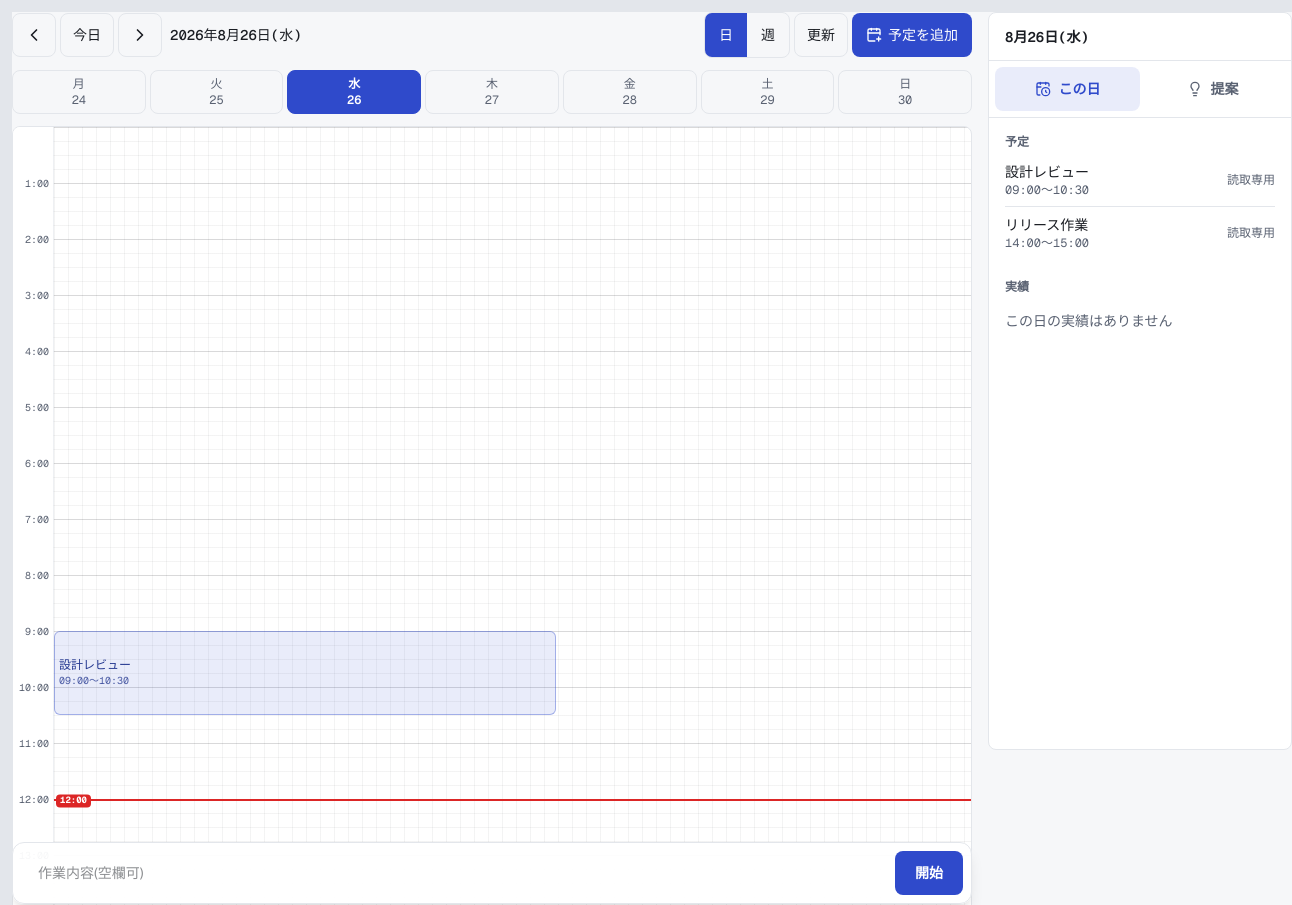
Scenario: 開始失敗時のロールバック(S6) › S6: 開始アクションが失敗すると日本語エラーが表示され、UIが元に戻る
Step 1. Click the button with aria-label "設計レビューのタイマーを開始" → (95, 665), box [54,631,556,715]
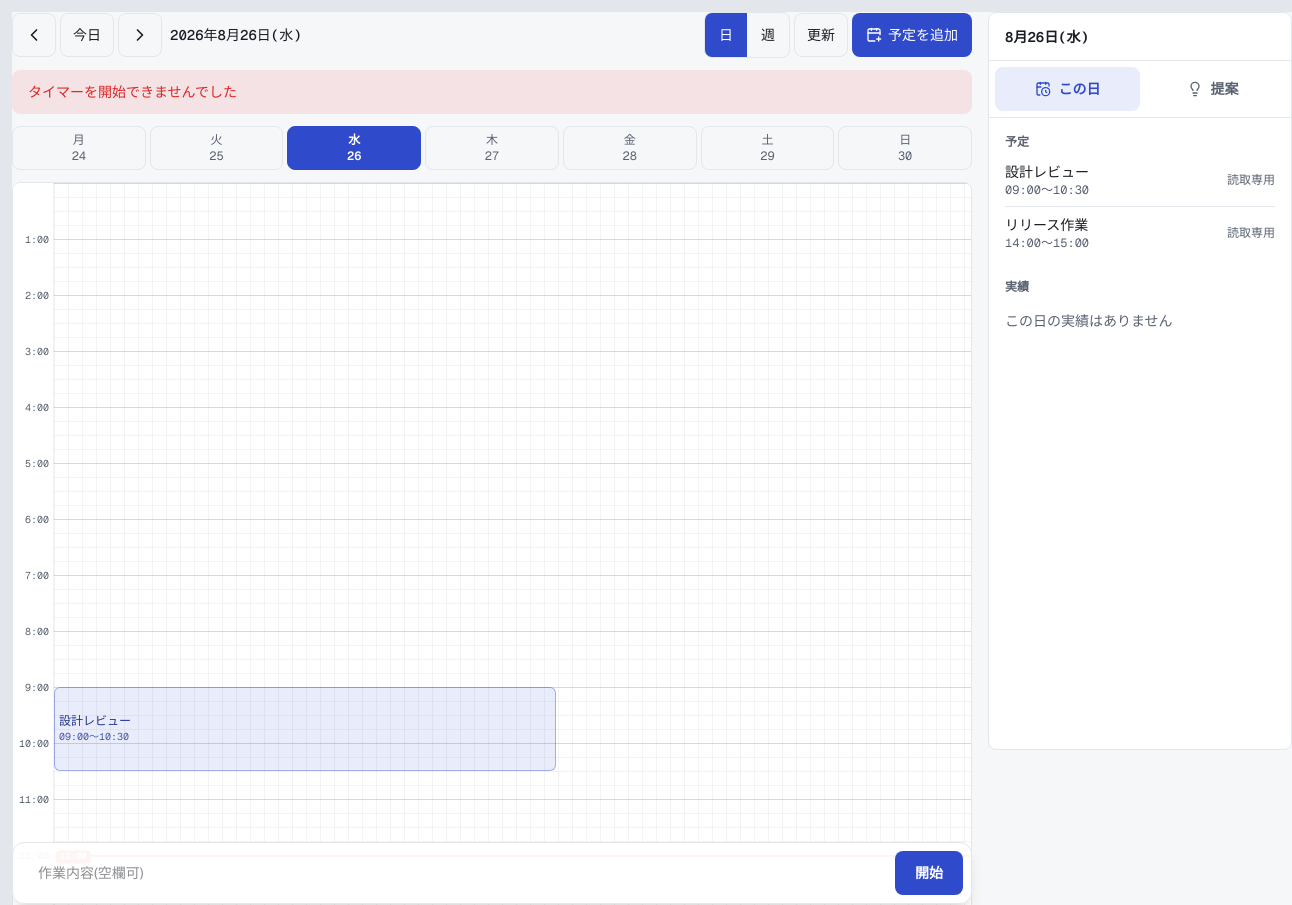
Expected: the button with aria-label "設計レビューのタイマーを開始" is shown, [54,687,556,771]
Now the text "タイマーを開始できませんでした" is shown, box [12,70,972,114]
